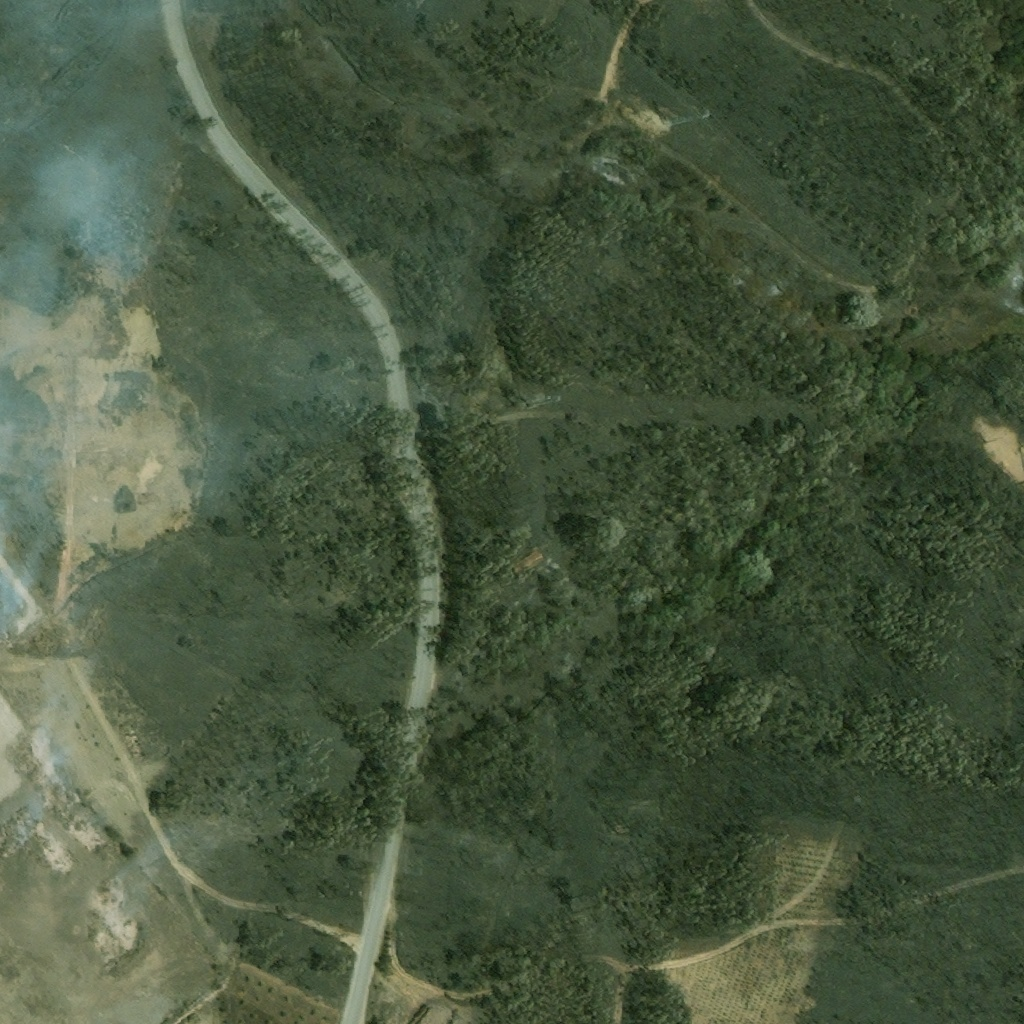0 no-damage: (512, 550, 544, 578)
